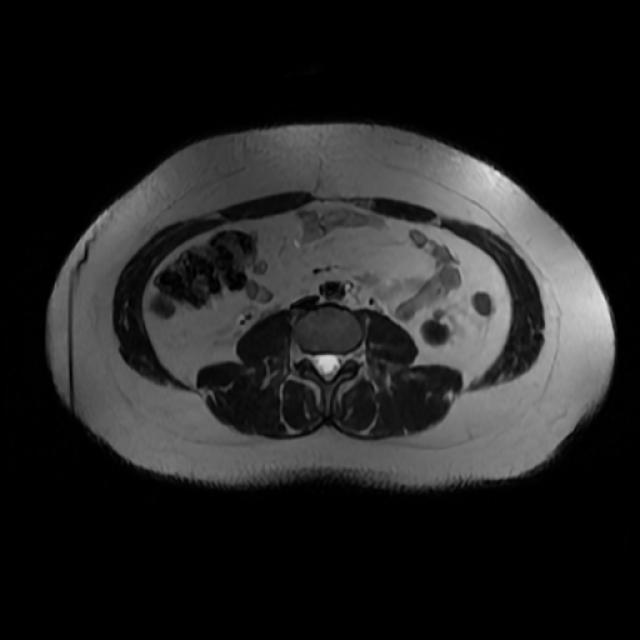sol: (418, 307, 459, 349)
